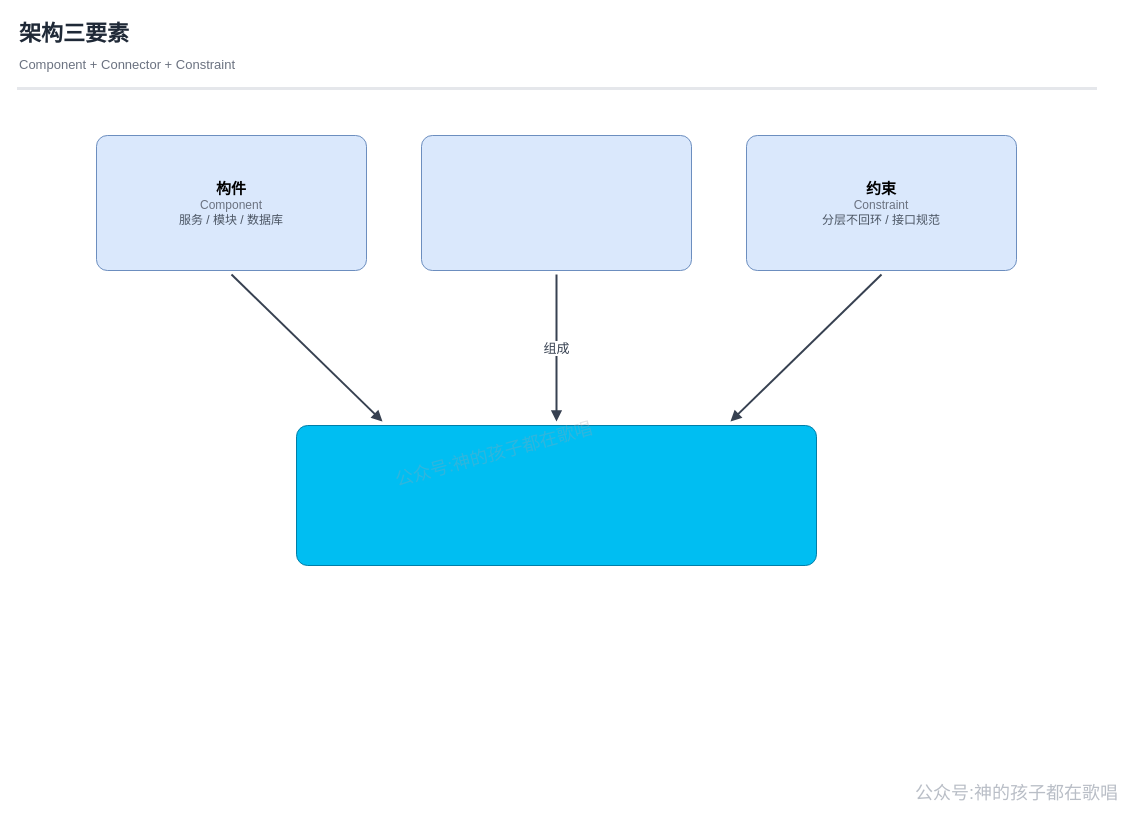
This 1137x827 diagram has some shape labels left out. The shapes that lost their labels are listed below. From the top down, each one's box as (x1, y1, x2, y2) in pixels, then its label:
(420, 134, 692, 270): 连接件 Connector HTTP / 消息队列 / RPC
(296, 424, 816, 566): 软件架构 构件 + 连接件 + 约束
